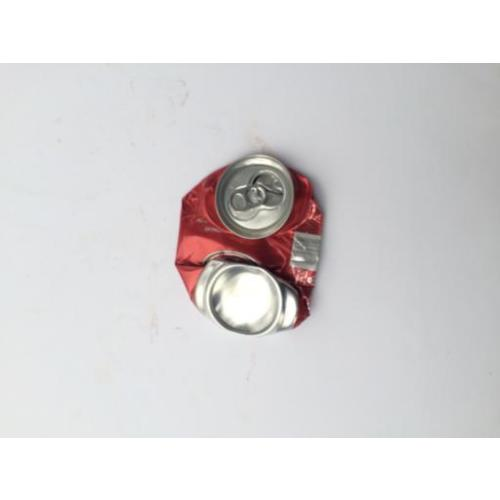metal: (178, 156, 324, 334)
